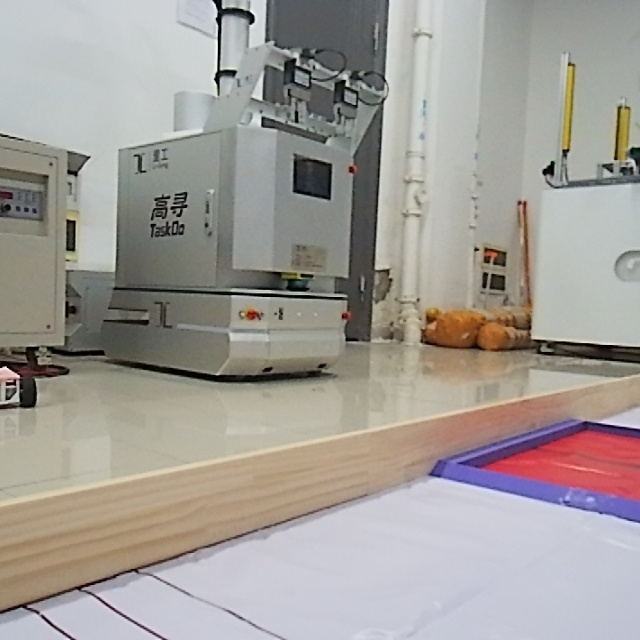zone1: (440, 414, 635, 531)
